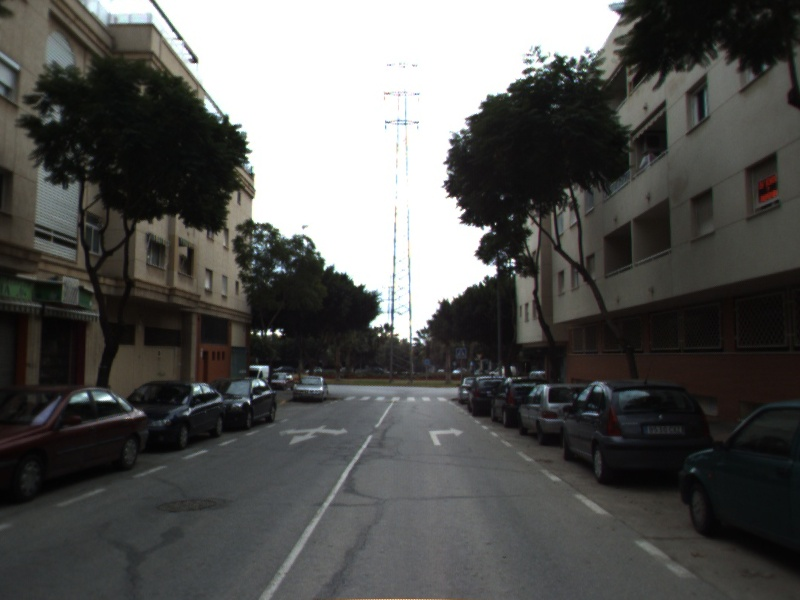RIGHT: (426, 425, 466, 447)
